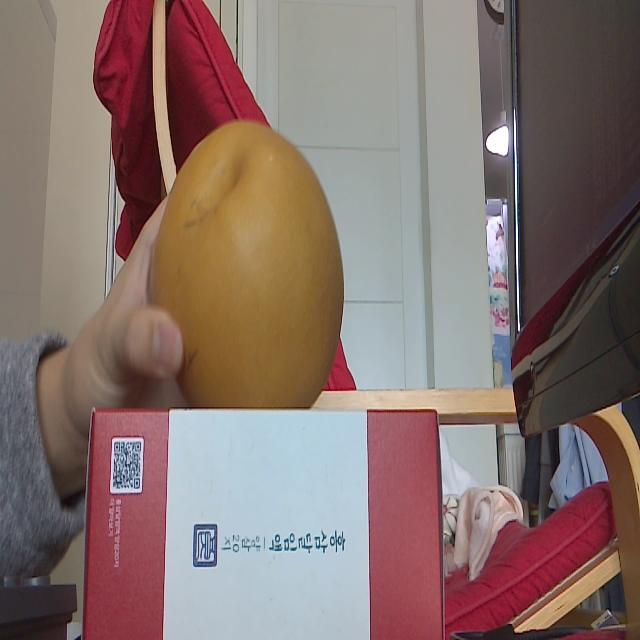pear: (150, 117, 343, 407)
